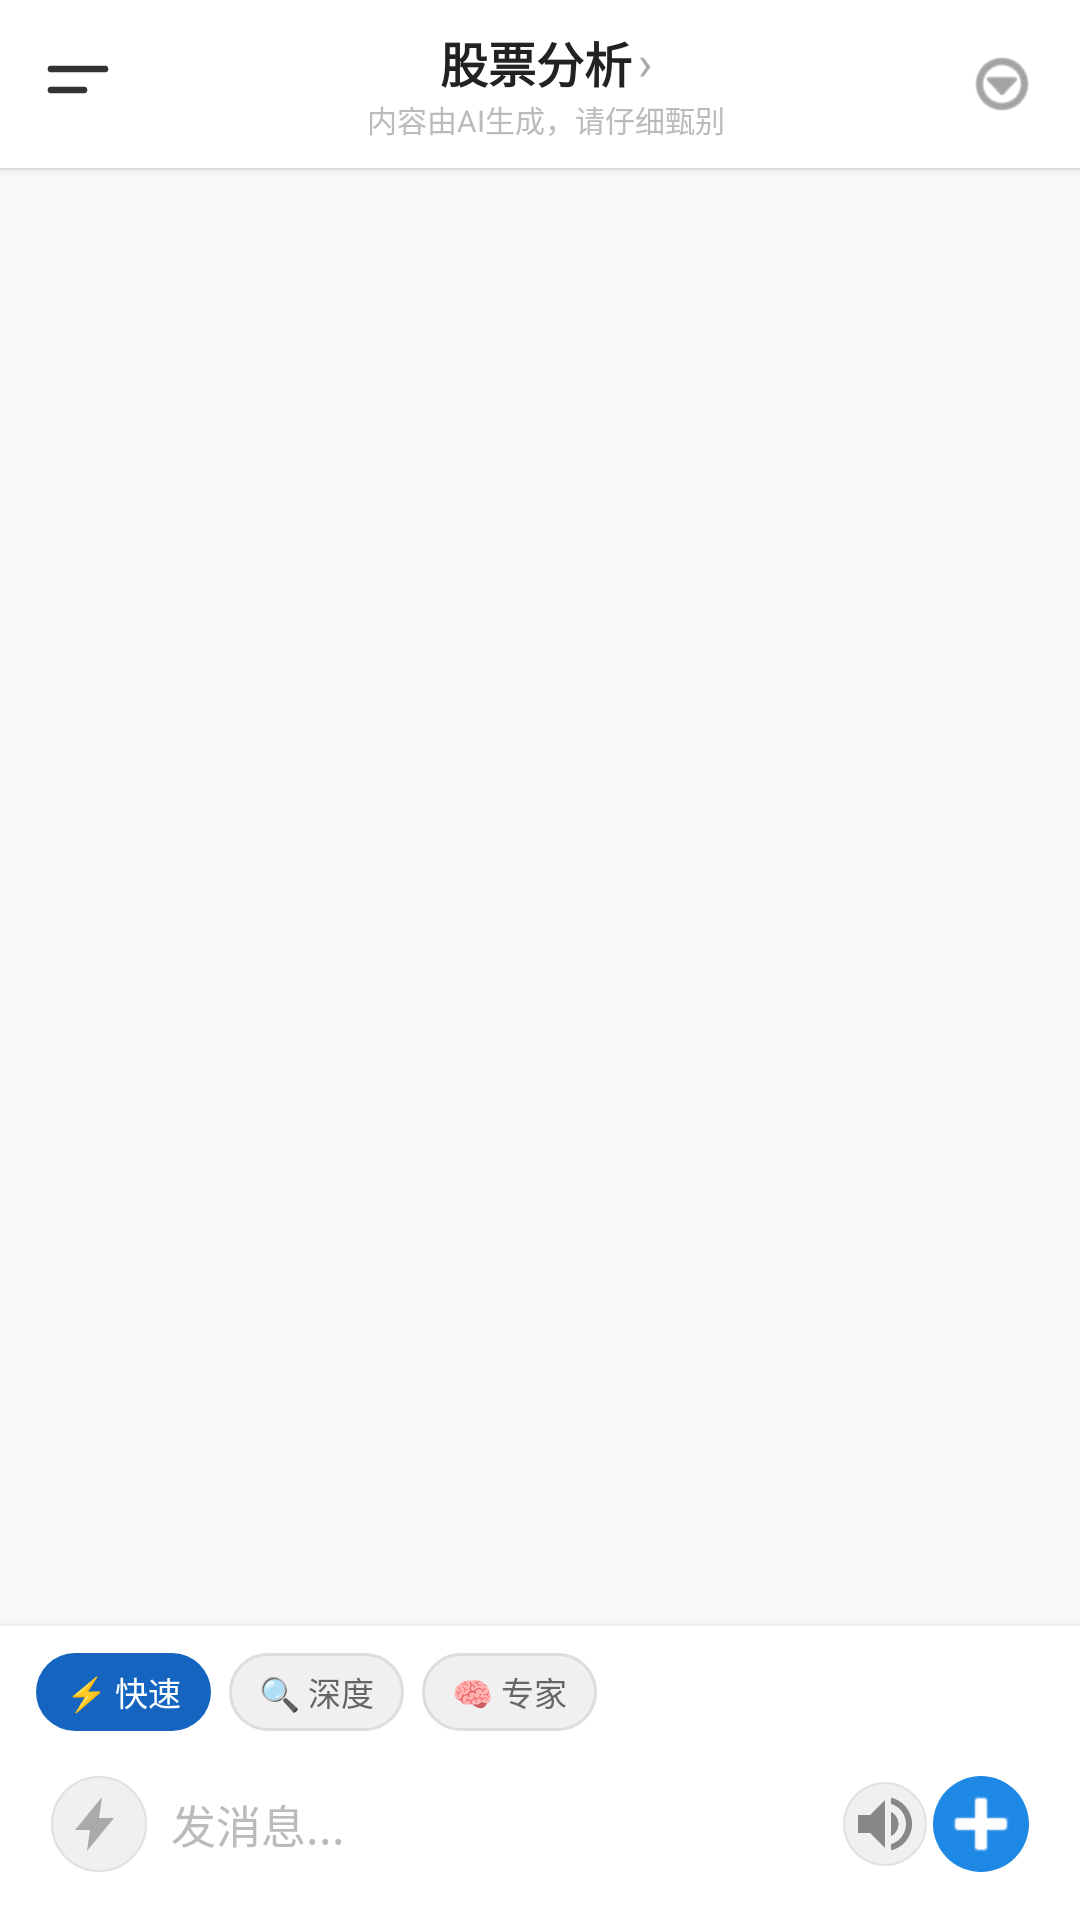

Where to tap for icons on this 1080px x 1920px app screen, as (x,y):
AI增强: (99,1824)
更多: (1002,84)
更多/发送: (981,1824)
语音输入: (885,1824)
